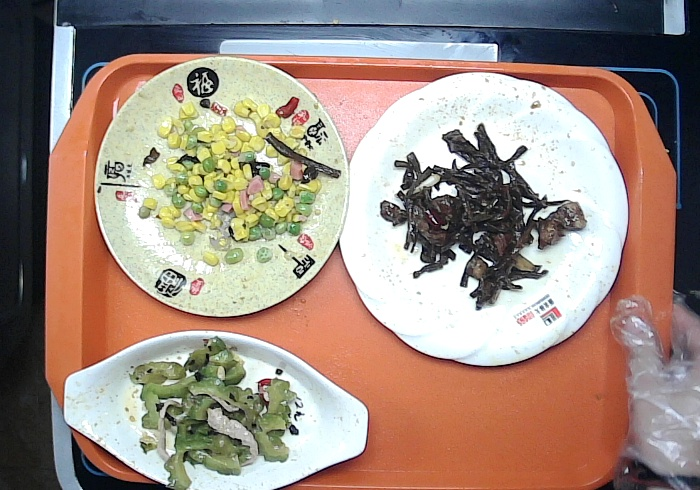NLDX-Bai_Zhe_Yuan_Pan: (336, 66, 632, 368)
NLDX-Fu_Zi_Yuan_Pan: (91, 53, 352, 321)
NLDX-Yu_Pan: (59, 327, 370, 490)
